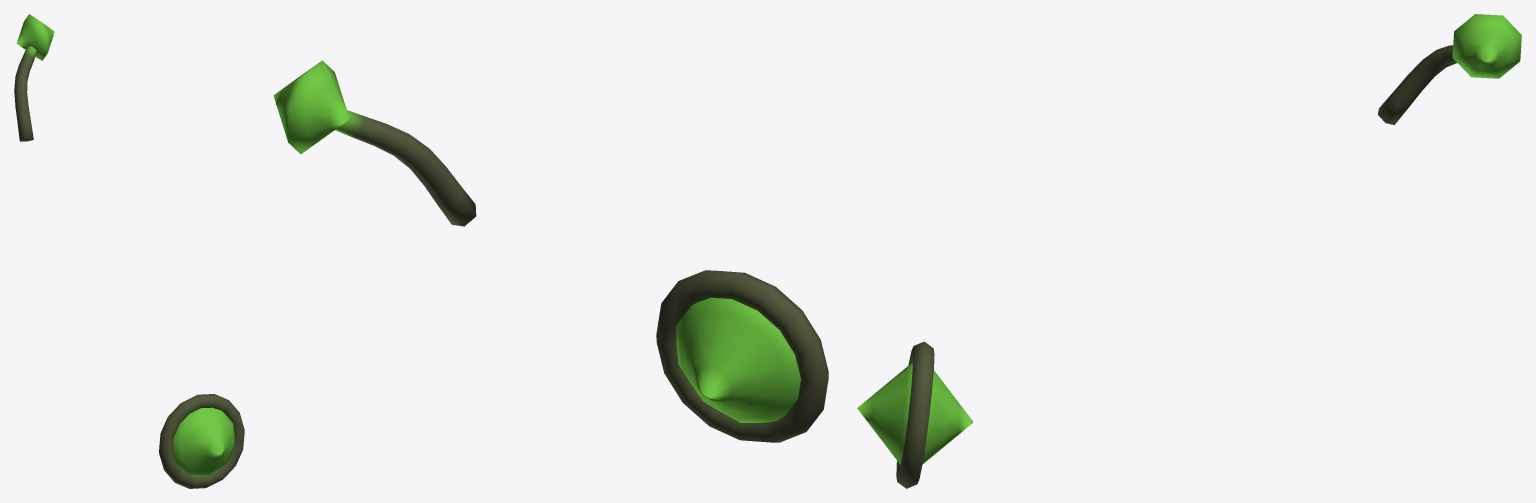
File: undead_bomb_parts.glb
3 views of the same model, side by side, from view 1: azimuth 30°, elevation 25°; view 2: azimuth 150°, elevation 25°; view 3: azimuth 270°, elevation 25° (orthographic). The views are drawn at different scales.
Visible parts, largest first — view 1: r0_CC_Base_Spine02, r0_CC_Base_Head; view 2: r0_CC_Base_Spine02, r0_CC_Base_Head; view 3: r0_CC_Base_Spine02, r0_CC_Base_Head.
Part boxes in pixels (x1=…): r0_CC_Base_Spine02: x1=159, y1=394, x2=244, y2=488; r0_CC_Base_Head: x1=14, y1=14, x2=54, y2=141; r0_CC_Base_Spine02: x1=656, y1=270, x2=828, y2=442; r0_CC_Base_Head: x1=273, y1=60, x2=476, y2=226; r0_CC_Base_Spine02: x1=857, y1=341, x2=973, y2=488; r0_CC_Base_Head: x1=1378, y1=14, x2=1521, y2=124.
Bounding box in the file's own units: 0.2039 × 0.7273 × 0.9035.
